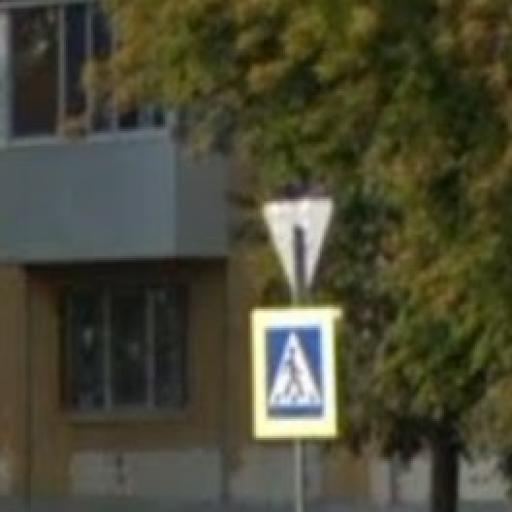traffic_sign: (251, 308, 339, 441)
